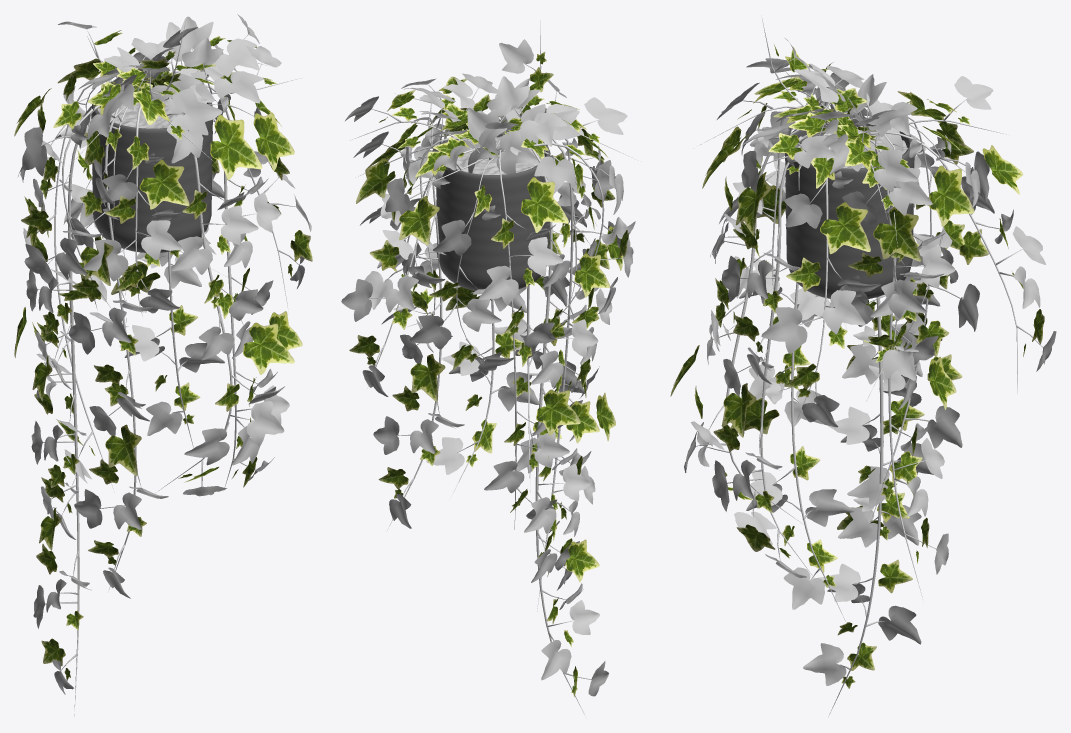
File: 220315-ivy.fbx
3 views of the same model, side by side, from view 1: azimuth 30°, elevation 25°; view 2: azimuth 150°, elevation 25°; view 3: azimuth 270°, elevation 25° (orthographic). The views are drawn at different scales.
Visible parts, largest first — view 1: 0307vase8, ivy leaf a 1-2.012, ivy leaf a 1-1.012, ivy leaf a 1-2.009, ivy leaf a 1-1.009, ivy leaf a 1-2.006, ivy leaf a 1-1.006, ivy leaf a 1-2.010, ivy leaf a 1-2.016, ivy leaf a 1-2.020, ivy leaf a 1-1.010, ivy leaf a 1-2.007 (+27 smaller); view 2: 0307vase8, ivy leaf a 1-2.006, ivy leaf a 1-2.023, ivy leaf a 1-1.023, ivy leaf a 1-1.006, ivy leaf a 1-2.024, ivy leaf a 1-2.022, ivy leaf a 1-2.020, ivy leaf a 1-2.016, ivy leaf a 1-1.022, ivy leaf a 1-2.014, ivy leaf a 1-1.020 (+28 smaller); view 3: ivy leaf a 1-2.006, 0307vase8, ivy leaf a 1-2.009, ivy leaf a 1-2.018, ivy leaf a 1-2.016, ivy leaf a 1-2.020, ivy leaf a 1-1.016, ivy leaf a 1-1.018, ivy leaf a 1-2.023, ivy leaf a 1-1.006, ivy leaf a 1-1.009, ivy leaf a 1-2.019 (+27 smaller).
Boxes of the visible parts, bbox=[...] form: 0307vase8: bbox=[91, 79, 212, 252]; ivy leaf a 1-2.012: bbox=[167, 91, 284, 496]; ivy leaf a 1-1.012: bbox=[163, 82, 294, 482]; ivy leaf a 1-2.009: bbox=[66, 202, 168, 598]; ivy leaf a 1-1.009: bbox=[72, 191, 146, 565]; ivy leaf a 1-2.006: bbox=[26, 173, 91, 694]; ivy leaf a 1-1.006: bbox=[26, 156, 83, 680]; ivy leaf a 1-2.010: bbox=[83, 153, 185, 313]; ivy leaf a 1-2.016: bbox=[207, 96, 289, 480]; ivy leaf a 1-2.020: bbox=[119, 59, 224, 435]; ivy leaf a 1-1.010: bbox=[105, 136, 189, 296]; ivy leaf a 1-2.007: bbox=[22, 125, 128, 327]; 0307vase8: bbox=[436, 134, 550, 290]; ivy leaf a 1-2.006: bbox=[524, 228, 608, 696]; ivy leaf a 1-2.023: bbox=[479, 146, 569, 519]; ivy leaf a 1-1.023: bbox=[491, 131, 580, 512]; ivy leaf a 1-1.006: bbox=[537, 223, 609, 696]; ivy leaf a 1-2.024: bbox=[410, 202, 513, 370]; ivy leaf a 1-2.022: bbox=[341, 171, 450, 396]; ivy leaf a 1-2.020: bbox=[373, 147, 464, 528]; ivy leaf a 1-2.016: bbox=[426, 111, 538, 474]; ivy leaf a 1-1.022: bbox=[349, 151, 446, 365]; ivy leaf a 1-2.014: bbox=[468, 78, 627, 173]; ivy leaf a 1-1.020: bbox=[378, 169, 445, 498]; ivy leaf a 1-2.006: bbox=[803, 204, 942, 685]; 0307vase8: bbox=[785, 116, 914, 299]; ivy leaf a 1-2.009: bbox=[739, 178, 854, 609]; ivy leaf a 1-2.018: bbox=[761, 171, 881, 427]; ivy leaf a 1-2.016: bbox=[712, 144, 806, 578]; ivy leaf a 1-2.020: bbox=[870, 136, 955, 574]; ivy leaf a 1-1.016: bbox=[713, 172, 790, 558]; ivy leaf a 1-1.018: bbox=[784, 157, 870, 397]; ivy leaf a 1-2.023: bbox=[847, 106, 994, 508]; ivy leaf a 1-1.006: bbox=[837, 243, 924, 688]; ivy leaf a 1-1.009: bbox=[730, 185, 837, 587]; ivy leaf a 1-2.019: bbox=[833, 186, 943, 380].
Size of the model in its own units: 2630 by 6355 by 2978.
